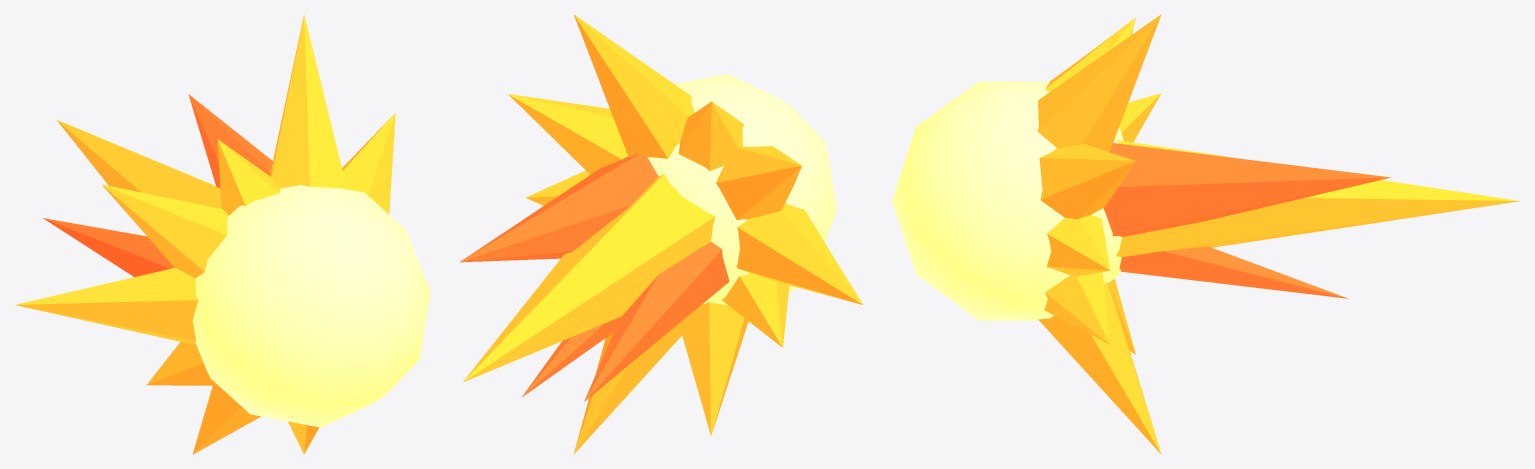
File: efekt_kula_ognia.glb
3 views of the same model, side by side, from view 1: azimuth 30°, elevation 25°; view 2: azimuth 150°, elevation 25°; view 3: azimuth 270°, elevation 25° (orthographic).
Parts seen in each view (by area): view 1: efekt_kula_ognia; view 2: efekt_kula_ognia; view 3: efekt_kula_ognia.
Boxes of the visible parts, left/top/right/bottom form: efekt_kula_ognia: left=15, top=14, right=430, bottom=454; efekt_kula_ognia: left=460, top=14, right=862, bottom=454; efekt_kula_ognia: left=892, top=14, right=1519, bottom=454.
Bounding box in the file's own units: 0.4062 × 0.4642 × 0.6.
